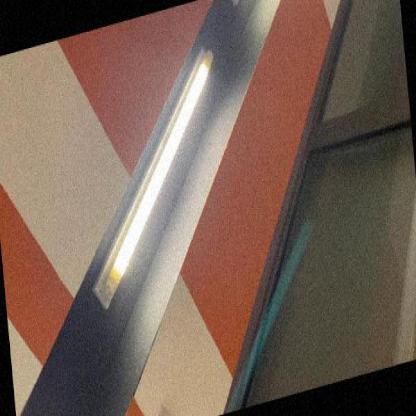light_on: (67, 33, 246, 317), (16, 395, 64, 415)
